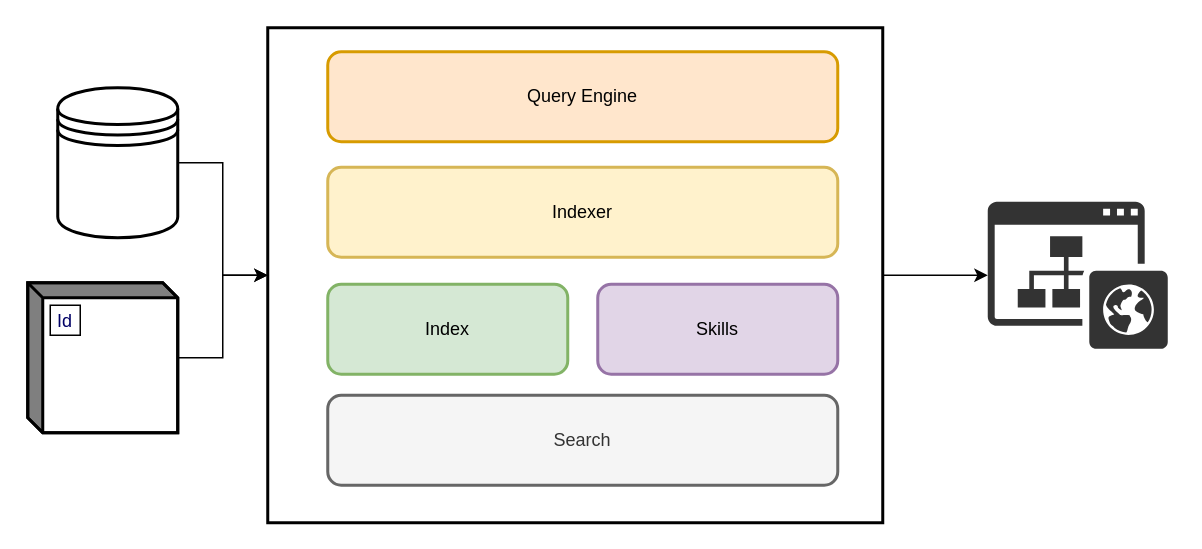
Some shapes in this 1202 by 549 pixel diagram are drawn without their labels. The shapes that lost their labels are listed below. From the top down, each one's box as (x1, y1, x2, y2) in pixels, then its label:
(56, 86, 178, 238): Course Data
(987, 201, 1167, 348): User Interactive Website (Azure Static App)
(26, 280, 178, 434): Curated Library of Papers
